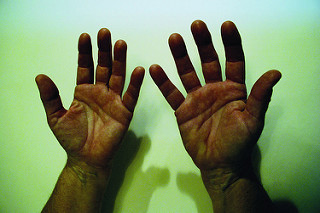palm: (177, 87, 253, 162), (59, 90, 122, 161)
